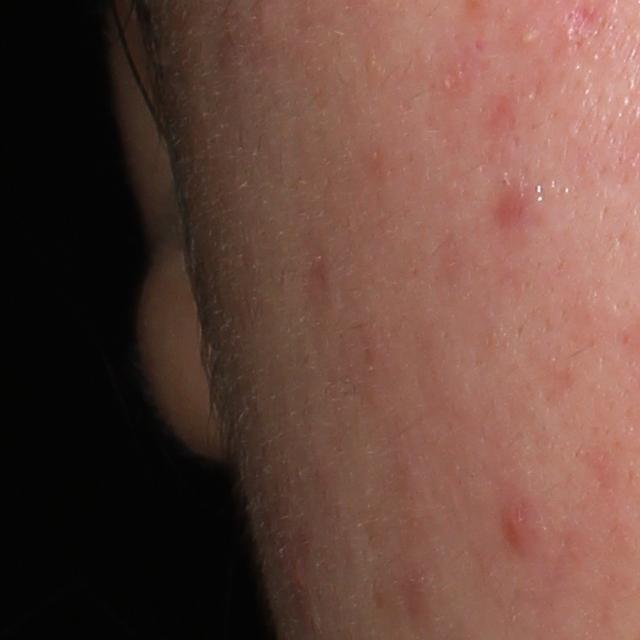papule: (497, 499, 540, 560), (488, 184, 534, 231)
